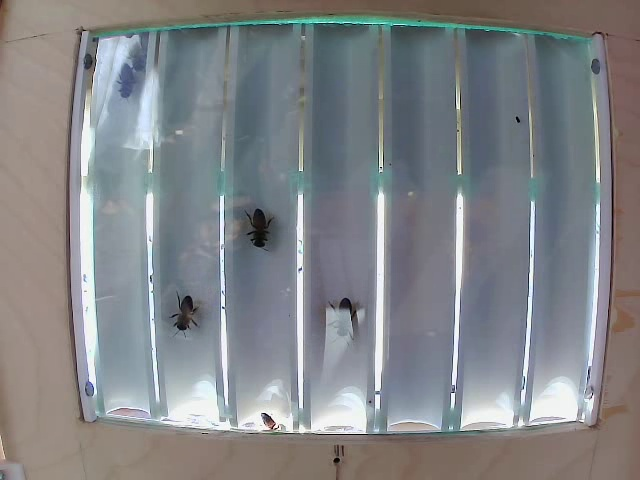bee: (162, 289, 209, 341), (324, 293, 367, 343), (241, 202, 277, 255)
